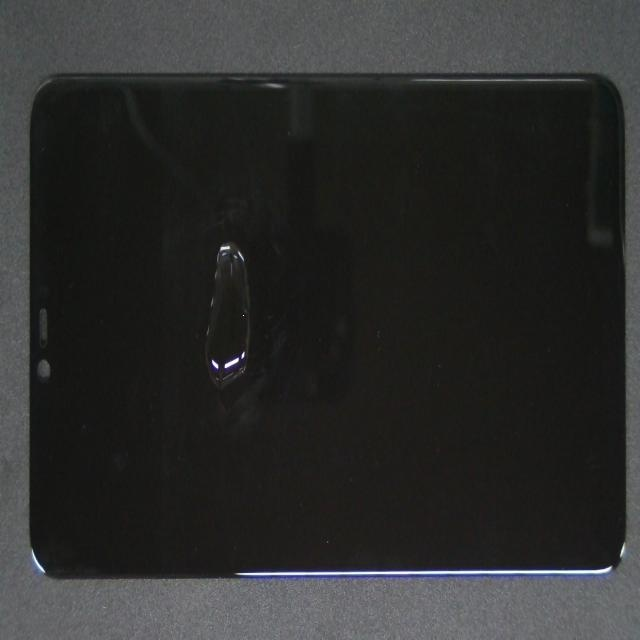oil: (123, 69, 321, 409)
